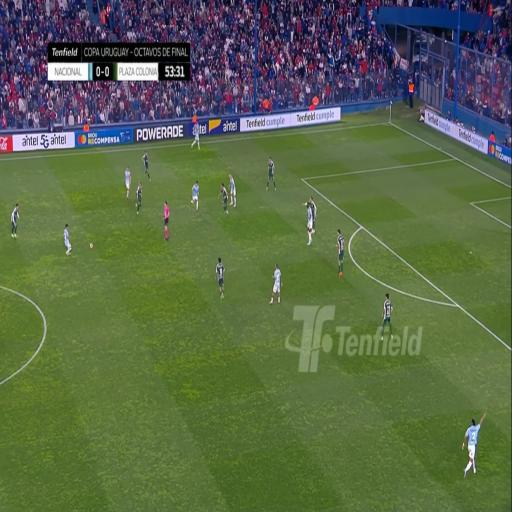Ball: (88, 242, 94, 250)
Player: (463, 415, 483, 470), (270, 264, 283, 306), (213, 255, 225, 299), (337, 228, 346, 283), (10, 196, 20, 240), (266, 154, 276, 192), (227, 172, 237, 208), (384, 294, 393, 334), (189, 180, 200, 212), (305, 204, 314, 242), (307, 197, 316, 230), (142, 148, 151, 178), (63, 222, 71, 254), (135, 182, 143, 214), (220, 182, 228, 214), (125, 164, 131, 198), (195, 121, 200, 152)
Referee: (163, 200, 169, 242)
